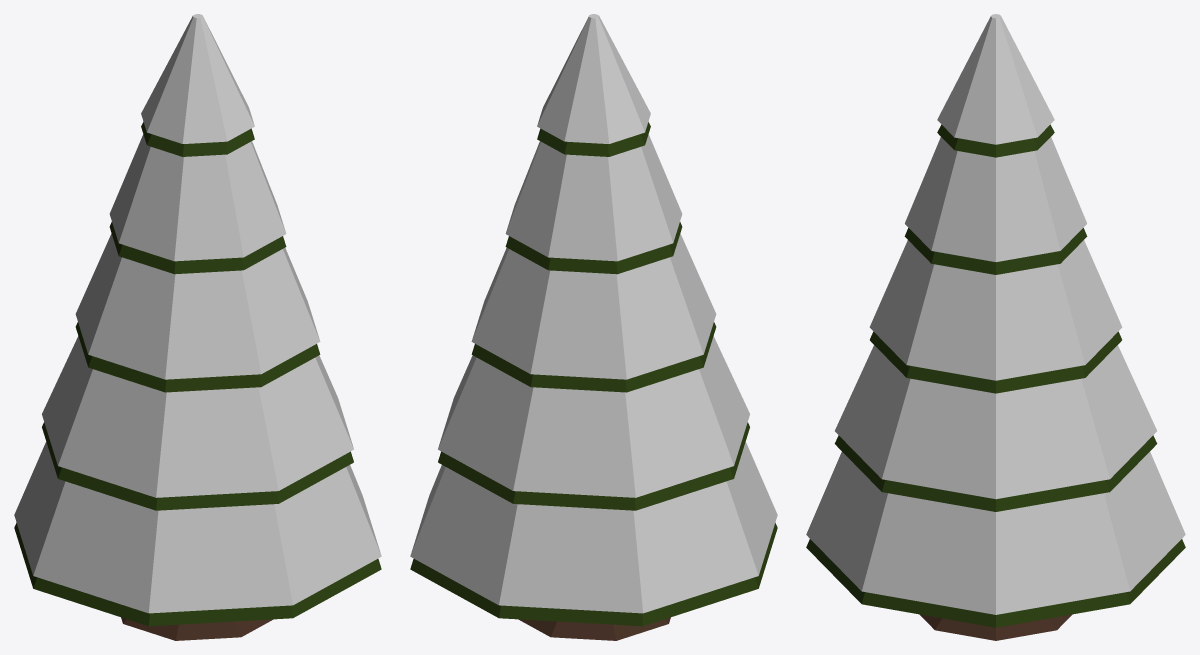
The model's file is SnowPineTree003.fbx.
3 views of the same model, side by side, from view 1: azimuth 30°, elevation 25°; view 2: azimuth 150°, elevation 25°; view 3: azimuth 270°, elevation 25° (orthographic).
Parts seen in each view (by area): view 1: Cylinder.009; view 2: Cylinder.009; view 3: Cylinder.009.
Boxes of the visible parts, bbox=[...] form: Cylinder.009: bbox=[14, 14, 381, 640]; Cylinder.009: bbox=[410, 14, 777, 640]; Cylinder.009: bbox=[806, 14, 1185, 640].
Bounding box in the file's own units: 942 × 1611 × 942.
